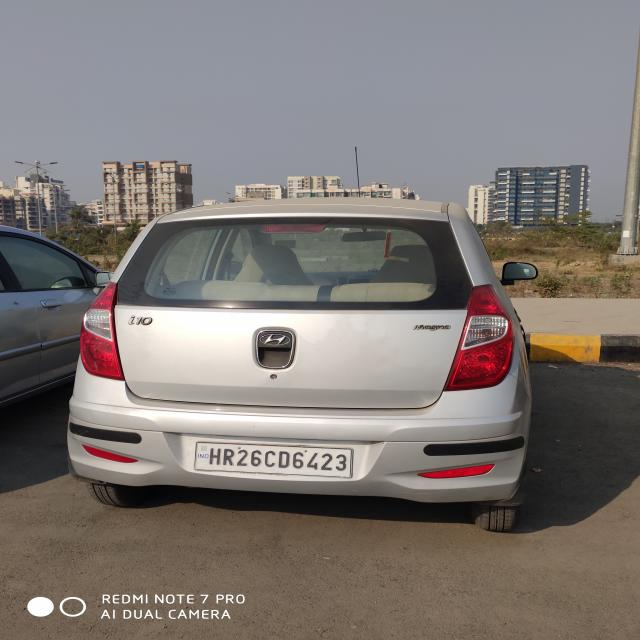Number-Plate: (198, 444, 354, 477)
